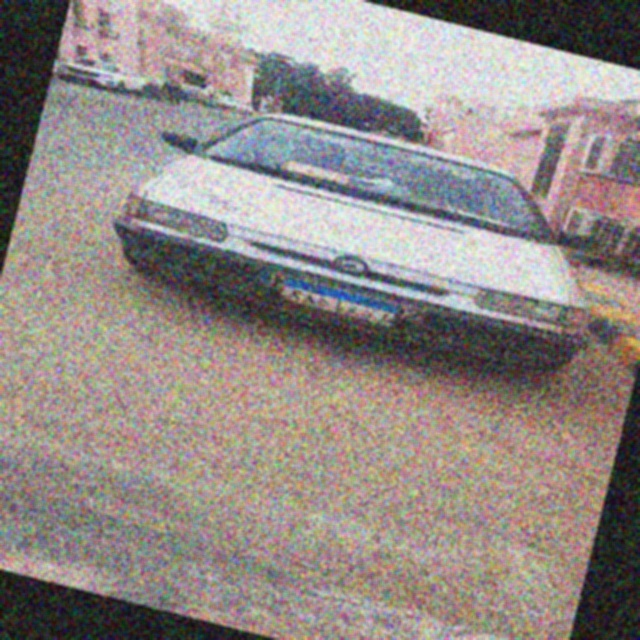License Plate: (276, 274, 401, 329)
